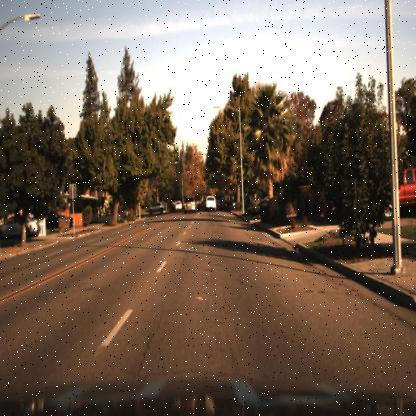car: (368, 162, 416, 224), (0, 206, 42, 242), (41, 209, 74, 233), (184, 197, 198, 213), (204, 194, 216, 210), (173, 198, 184, 212)
trafficLight-Red: (226, 177, 234, 193), (202, 164, 210, 179)
